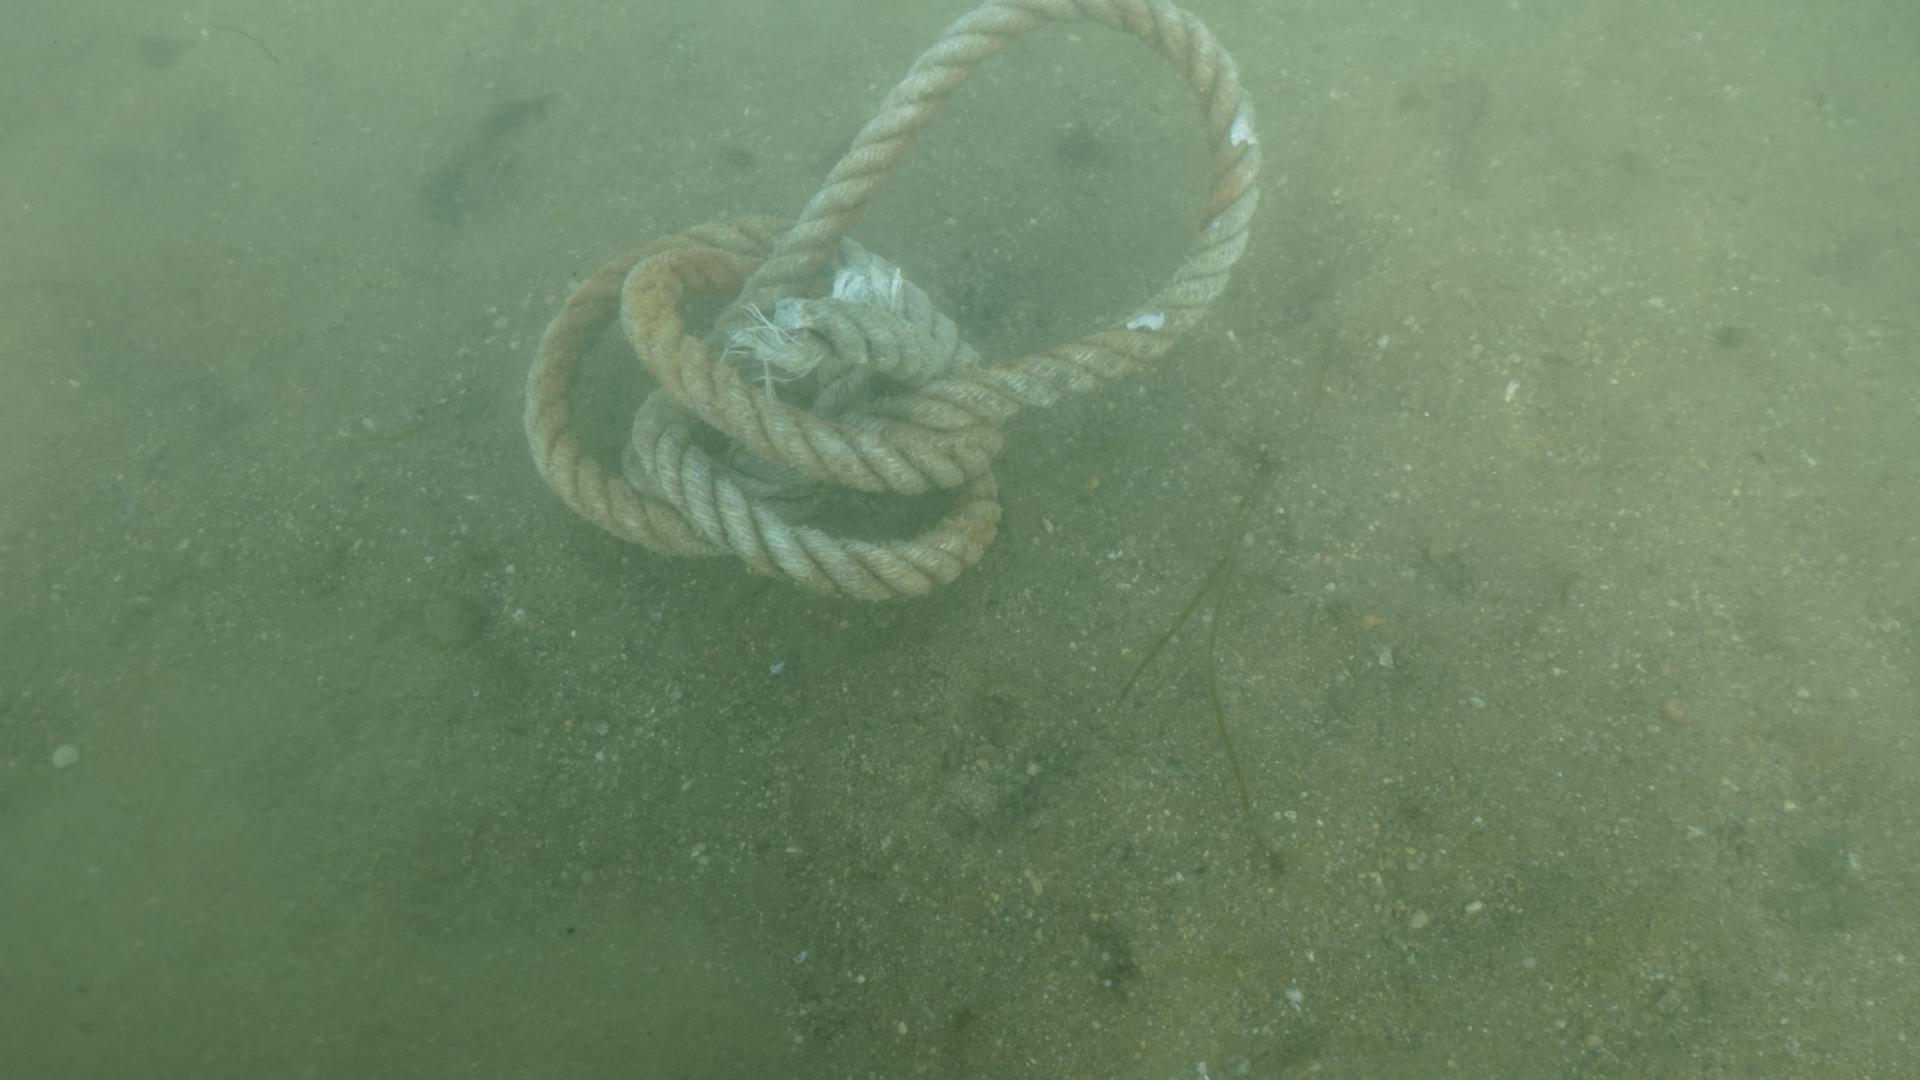bundle of ropes: (516, 0, 1269, 607)
